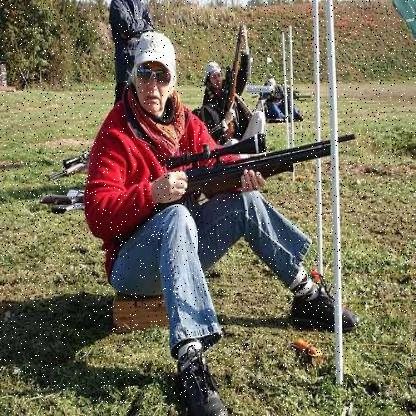rifle: (129, 102, 367, 232)
